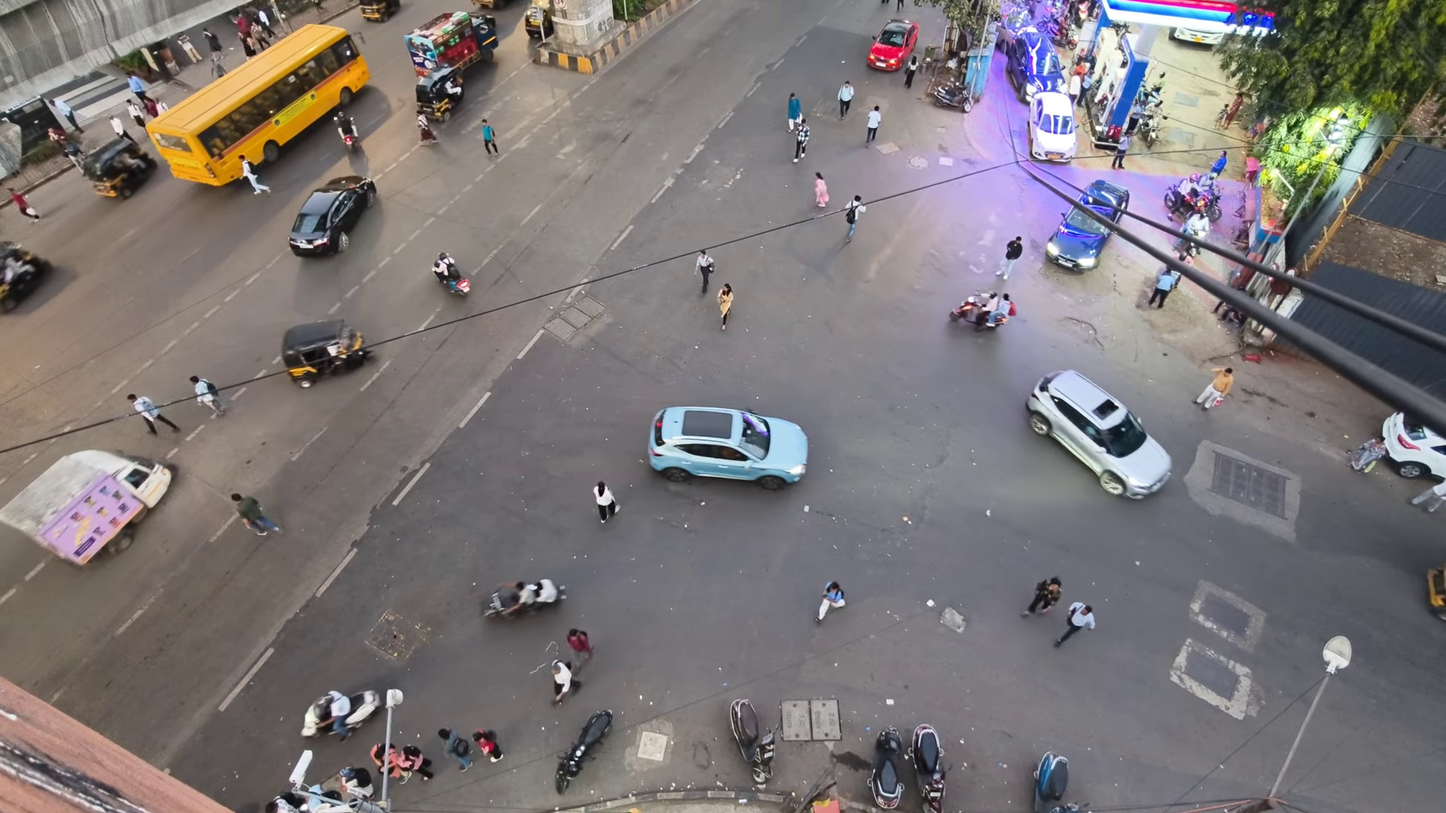driving: (0, 450, 171, 565), (1027, 370, 1170, 498), (648, 406, 807, 489), (1045, 179, 1128, 269), (288, 175, 377, 255), (281, 318, 370, 388), (405, 11, 498, 77), (0, 241, 53, 312), (1027, 90, 1077, 161), (866, 19, 920, 71)
walking: (230, 493, 281, 535), (127, 394, 178, 434), (1054, 601, 1094, 647), (1021, 577, 1061, 617), (1194, 367, 1232, 409), (438, 728, 471, 771), (398, 744, 433, 783), (551, 660, 581, 705), (189, 376, 224, 414), (326, 690, 352, 741), (1147, 266, 1178, 308), (370, 743, 405, 778), (996, 236, 1023, 280), (566, 629, 593, 672), (816, 582, 845, 622), (50, 99, 84, 132), (8, 187, 40, 220), (593, 480, 618, 522), (472, 729, 503, 762), (1411, 482, 1445, 512), (242, 157, 270, 193), (845, 195, 865, 242), (717, 283, 734, 330), (697, 249, 714, 294), (108, 114, 134, 143), (793, 118, 810, 162), (1222, 93, 1243, 128), (1111, 133, 1130, 169), (481, 118, 499, 154), (837, 81, 854, 119), (416, 114, 437, 144), (866, 105, 881, 145), (127, 73, 148, 101), (787, 93, 802, 132), (255, 9, 275, 38), (1208, 150, 1227, 180), (202, 28, 223, 53), (126, 99, 144, 128), (814, 172, 828, 206), (1067, 72, 1081, 106), (238, 32, 256, 58), (905, 55, 919, 88), (143, 99, 160, 118)
